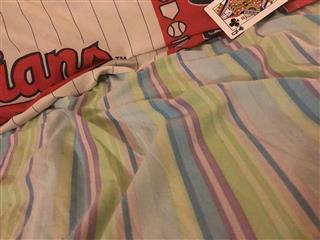QueenOfClubs: (202, 1, 289, 39)
